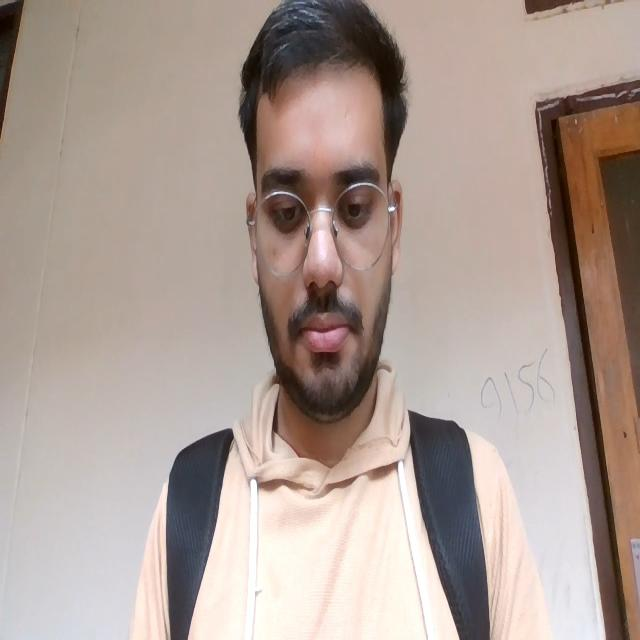awake: (255, 151, 379, 355)
